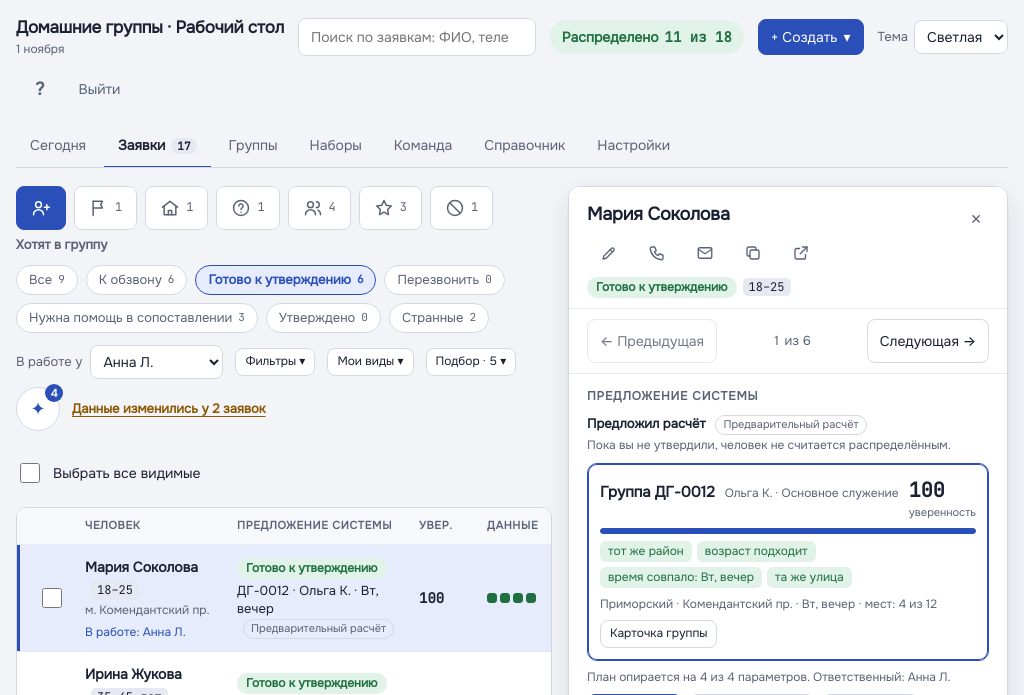
it: «Мои виды» на «Заявках» › текущий отбор сохраняется под именем без вкладки и открытой заявки
This screenshot has width=1024, height=695.
Click the button "Мои виды ▾": (370,362) [327, 348, 414, 376]
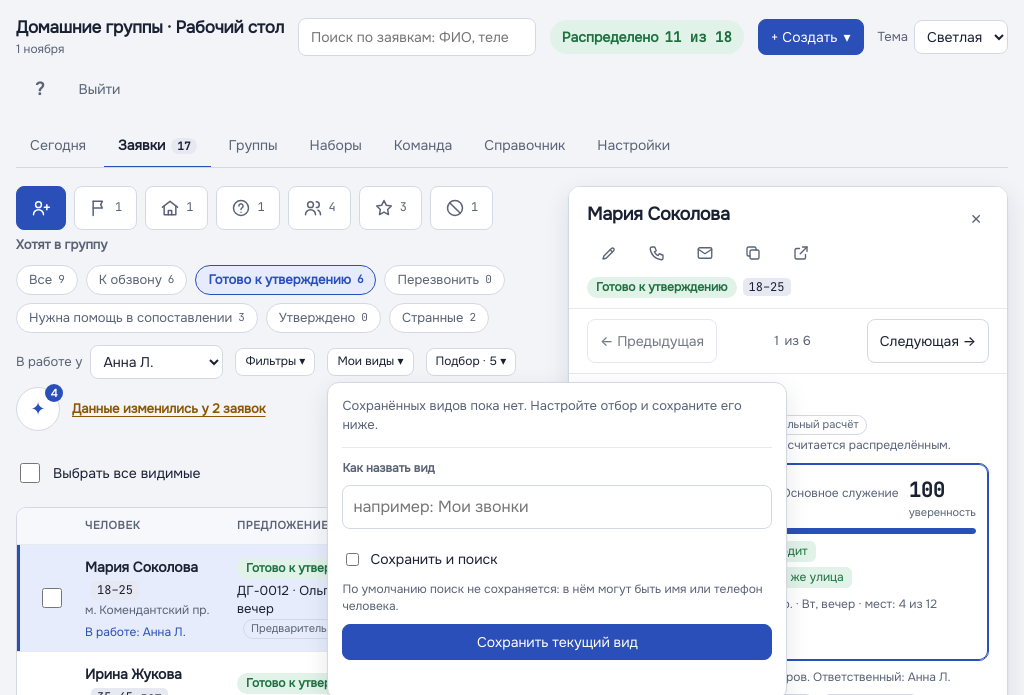
In the field labelled "Как назвать вид": (557,507) [342, 485, 772, 529], type "Готовые Анны"
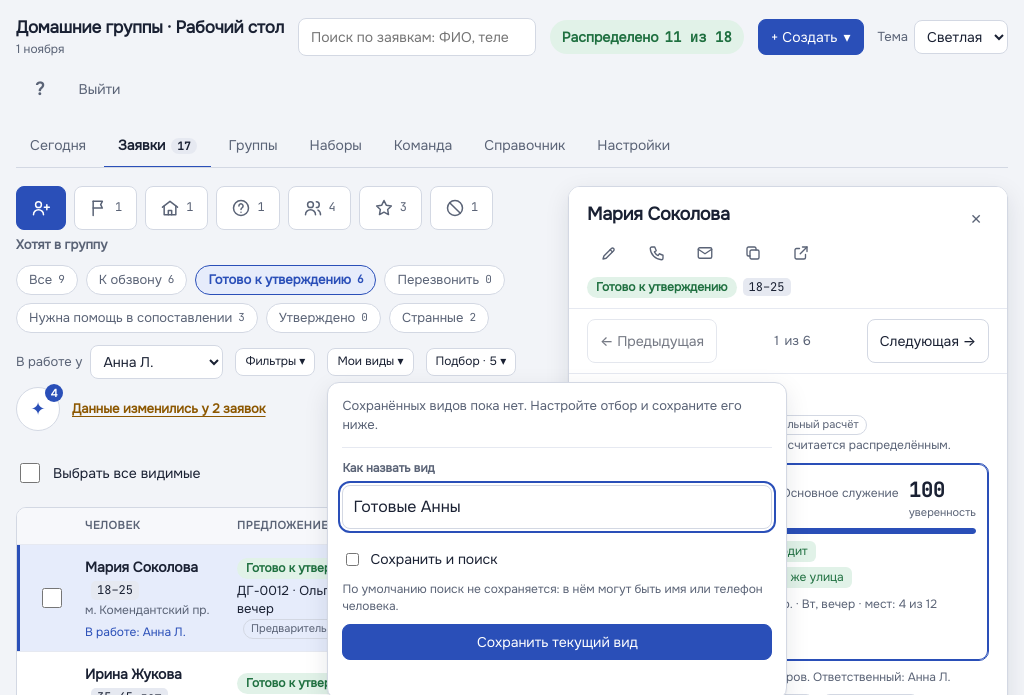
Click the button "Сохранить текущий вид": (557,642) [342, 624, 772, 660]
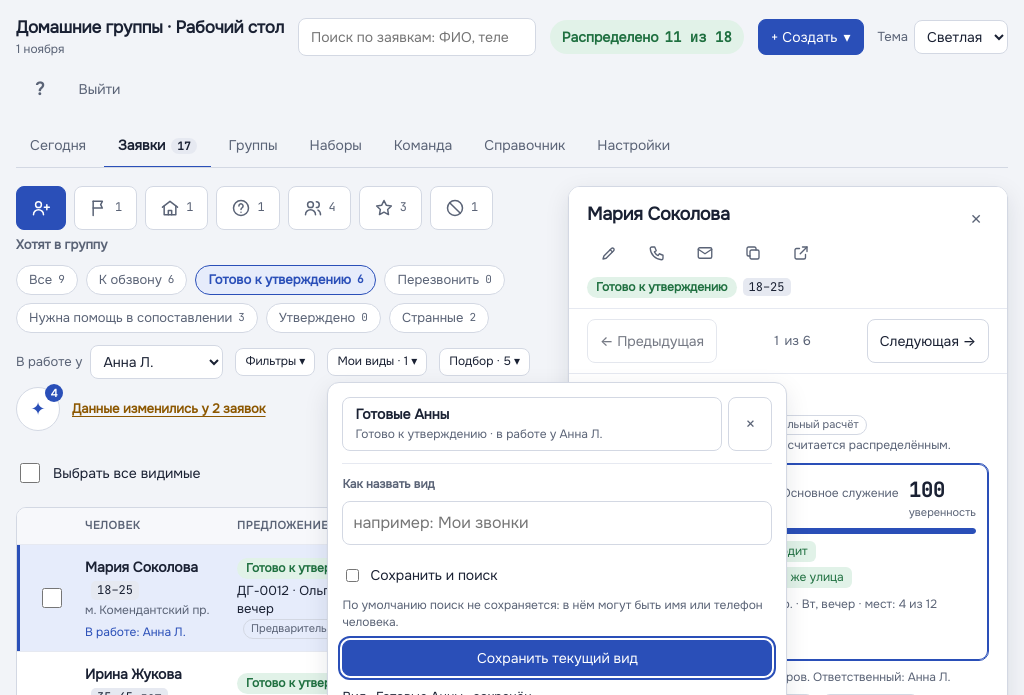
Expected: the button "Готовые Анны Готово к утверждению · в работе у Анна Л." is shown, [342, 397, 722, 451]
